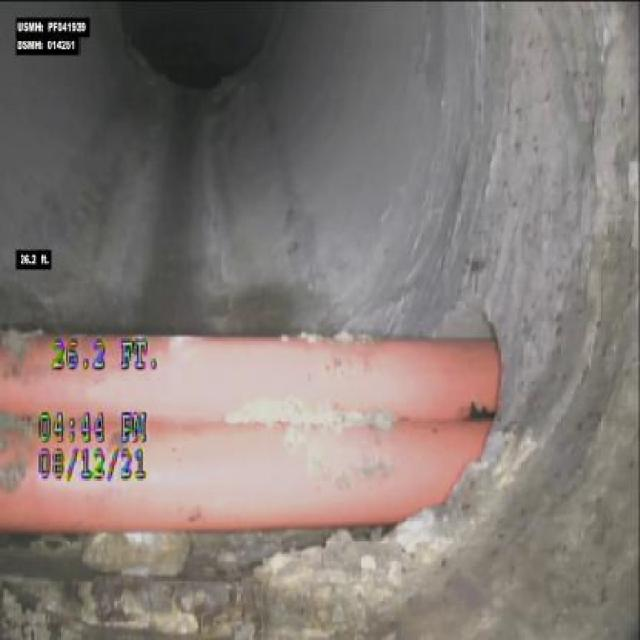Utility intrusion: (162, 292, 528, 556)
